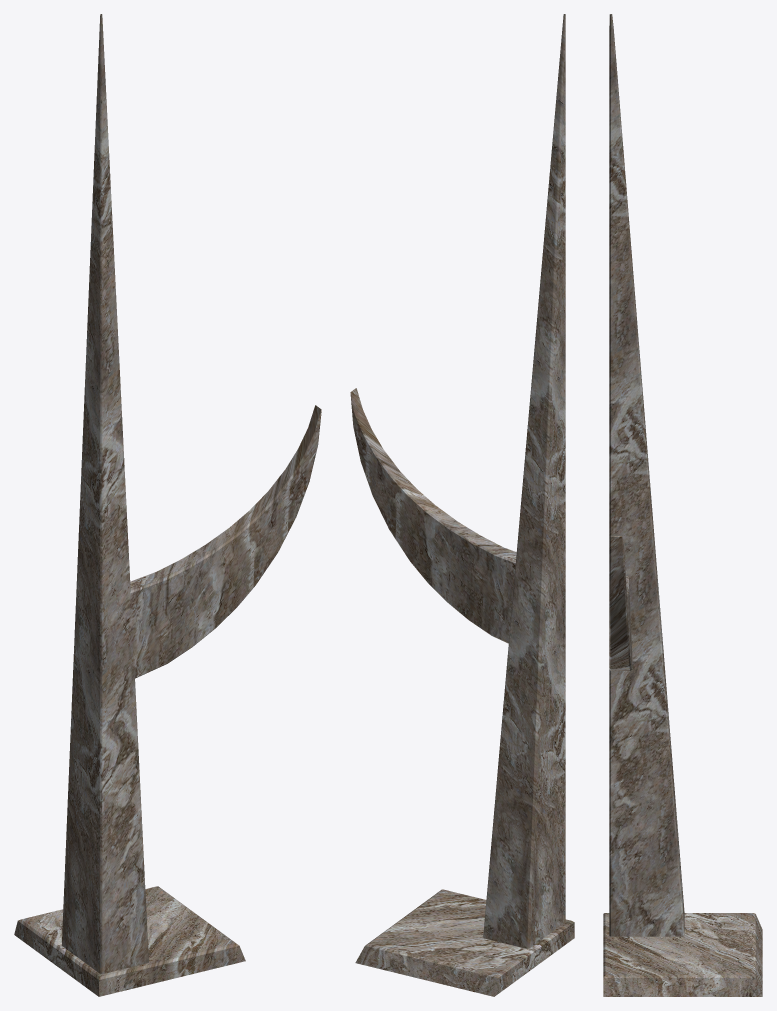
The model's file is frn_quest_fs_sculpture_3_l0.fbx.
3 views of the same model, side by side, from view 1: azimuth 30°, elevation 25°; view 2: azimuth 150°, elevation 25°; view 3: azimuth 270°, elevation 25° (orthographic). The views are drawn at different scales.
Parts seen in each view (by area): view 1: mesh_node; view 2: mesh_node; view 3: mesh_node.
Boxes of the visible parts, x1=… form: mesh_node: x1=14, y1=14, x2=321, y2=996; mesh_node: x1=350, y1=14, x2=574, y2=996; mesh_node: x1=603, y1=14, x2=762, y2=996.
Size of the model in its own units: 0.6176 by 2.54 by 0.4.
